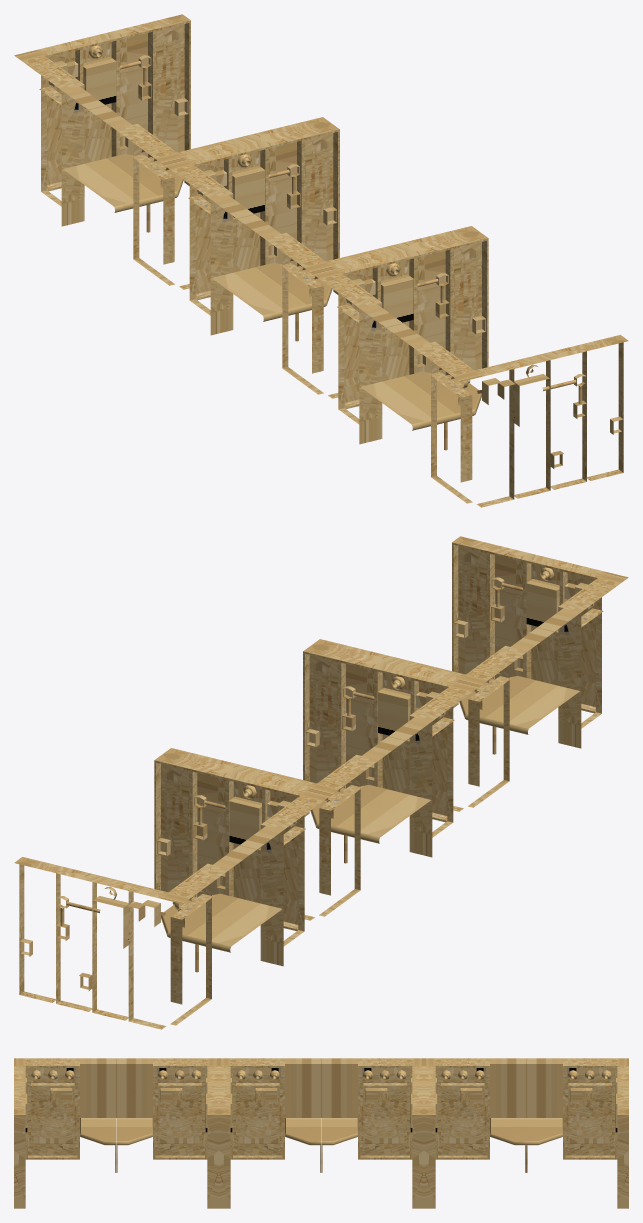
File: TestWall_ALL.gltf
3 renders of one model, top to bottom at view 1: azimuth 30°, elevation 25°; view 2: azimuth 150°, elevation 25°; view 3: azimuth 270°, elevation 25°, orthographic. The views are drawn at different scales.
Parts seen in each view (by area): view 1: polySurface101; view 2: polySurface101; view 3: polySurface101.
Part boxes in pixels (x1,y1,x2,y2): polySurface101: [14, 14, 628, 507]; polySurface101: [14, 536, 628, 1029]; polySurface101: [14, 1058, 628, 1208].
Bounding box in the file's own units: 240 × 186 × 1100.
